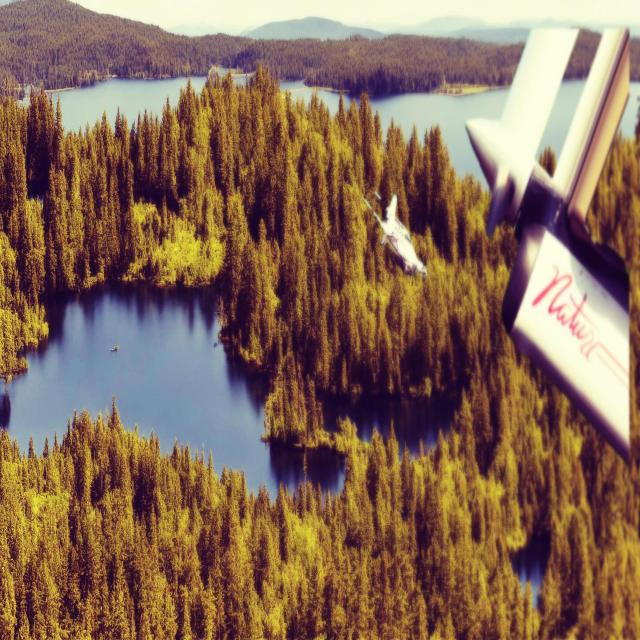airplane: (465, 23, 632, 464), (362, 190, 428, 279)
